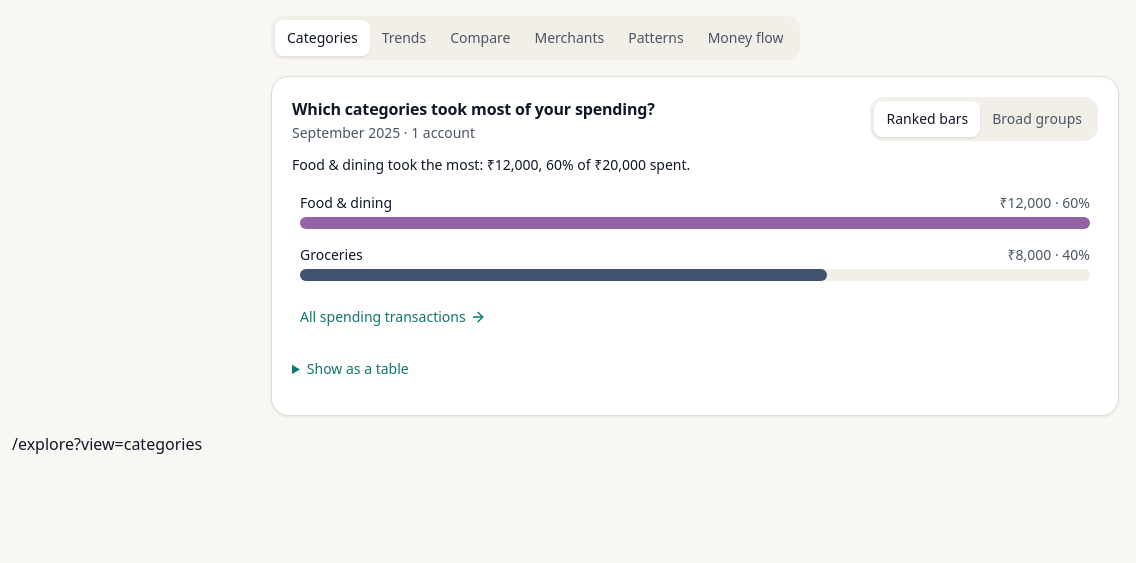
Explore: categories › ranks categories and every bar routes to its transactions; the donut is an alternative for broad groups
Expected: the text "Food & dining took the most: ₹12,000, 60% of ₹20,000 spent." is shown, [292,155,690,174]
Step 1. Click the radio button labelled "Broad groups" → (1037, 119), box [980,101,1094,137]
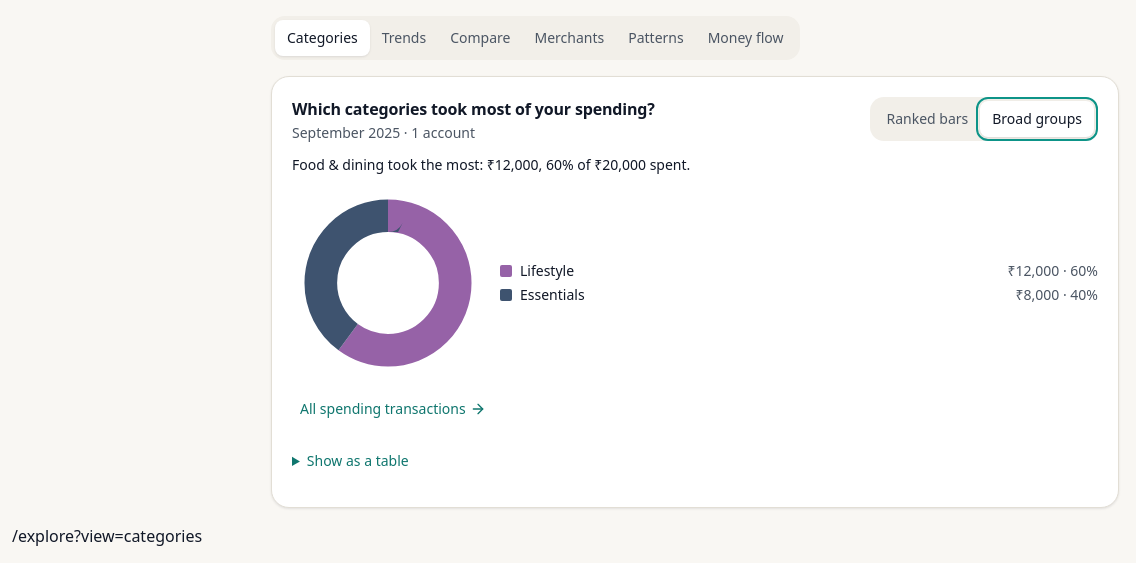
Expected: the picture named "Spending by broad group" is shown, [292,187,484,379]
